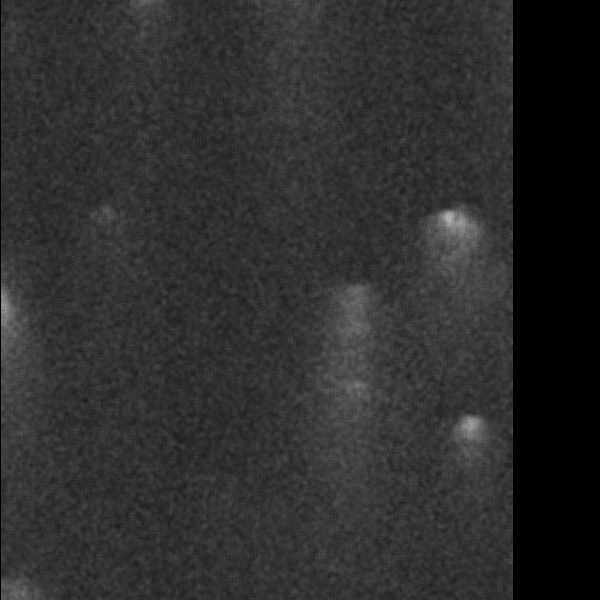spark: (96, 261, 182, 329), (465, 39, 512, 91), (99, 437, 171, 470), (408, 205, 453, 239), (360, 198, 376, 293), (2, 221, 41, 254)
